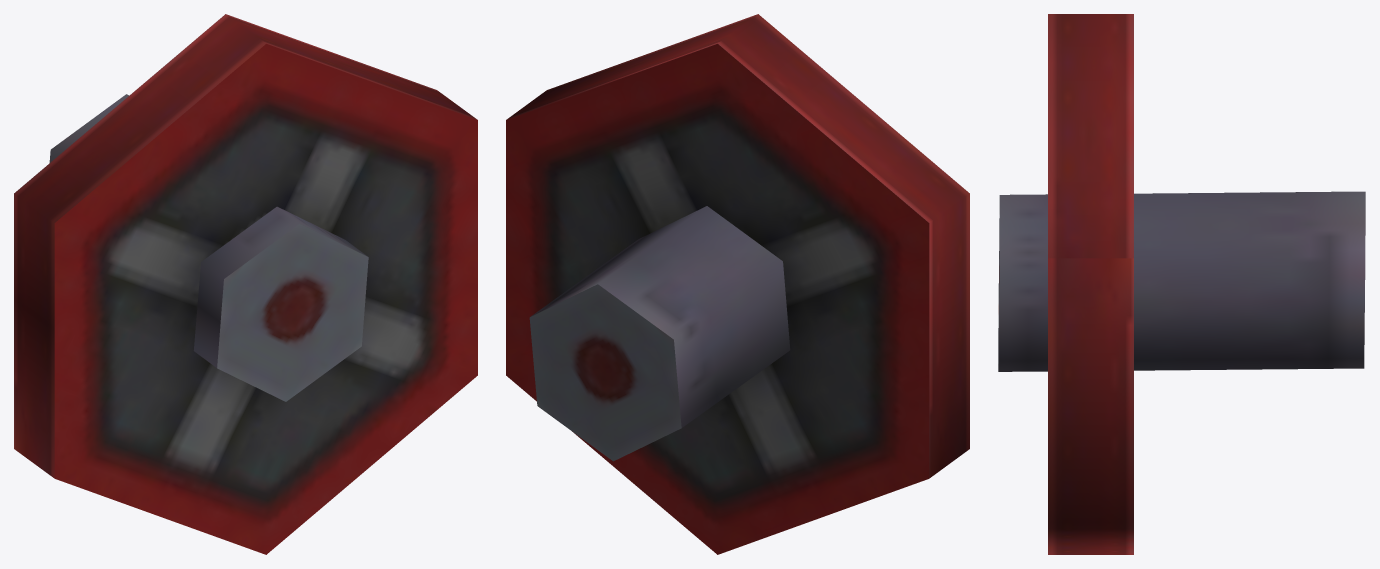
Rendered from action_09_893dfe6a__zombies2_diffuse_07_65562b6b_c1f257.obj.
3 views of the same model, side by side, from view 1: azimuth 30°, elevation 25°; view 2: azimuth 150°, elevation 25°; view 3: azimuth 270°, elevation 25° (orthographic). The views are drawn at different scales.
Bounding box in the file's own units: 1.36 × 1.57 × 0.9693.
Materials: 1 (1 with a texture image).
